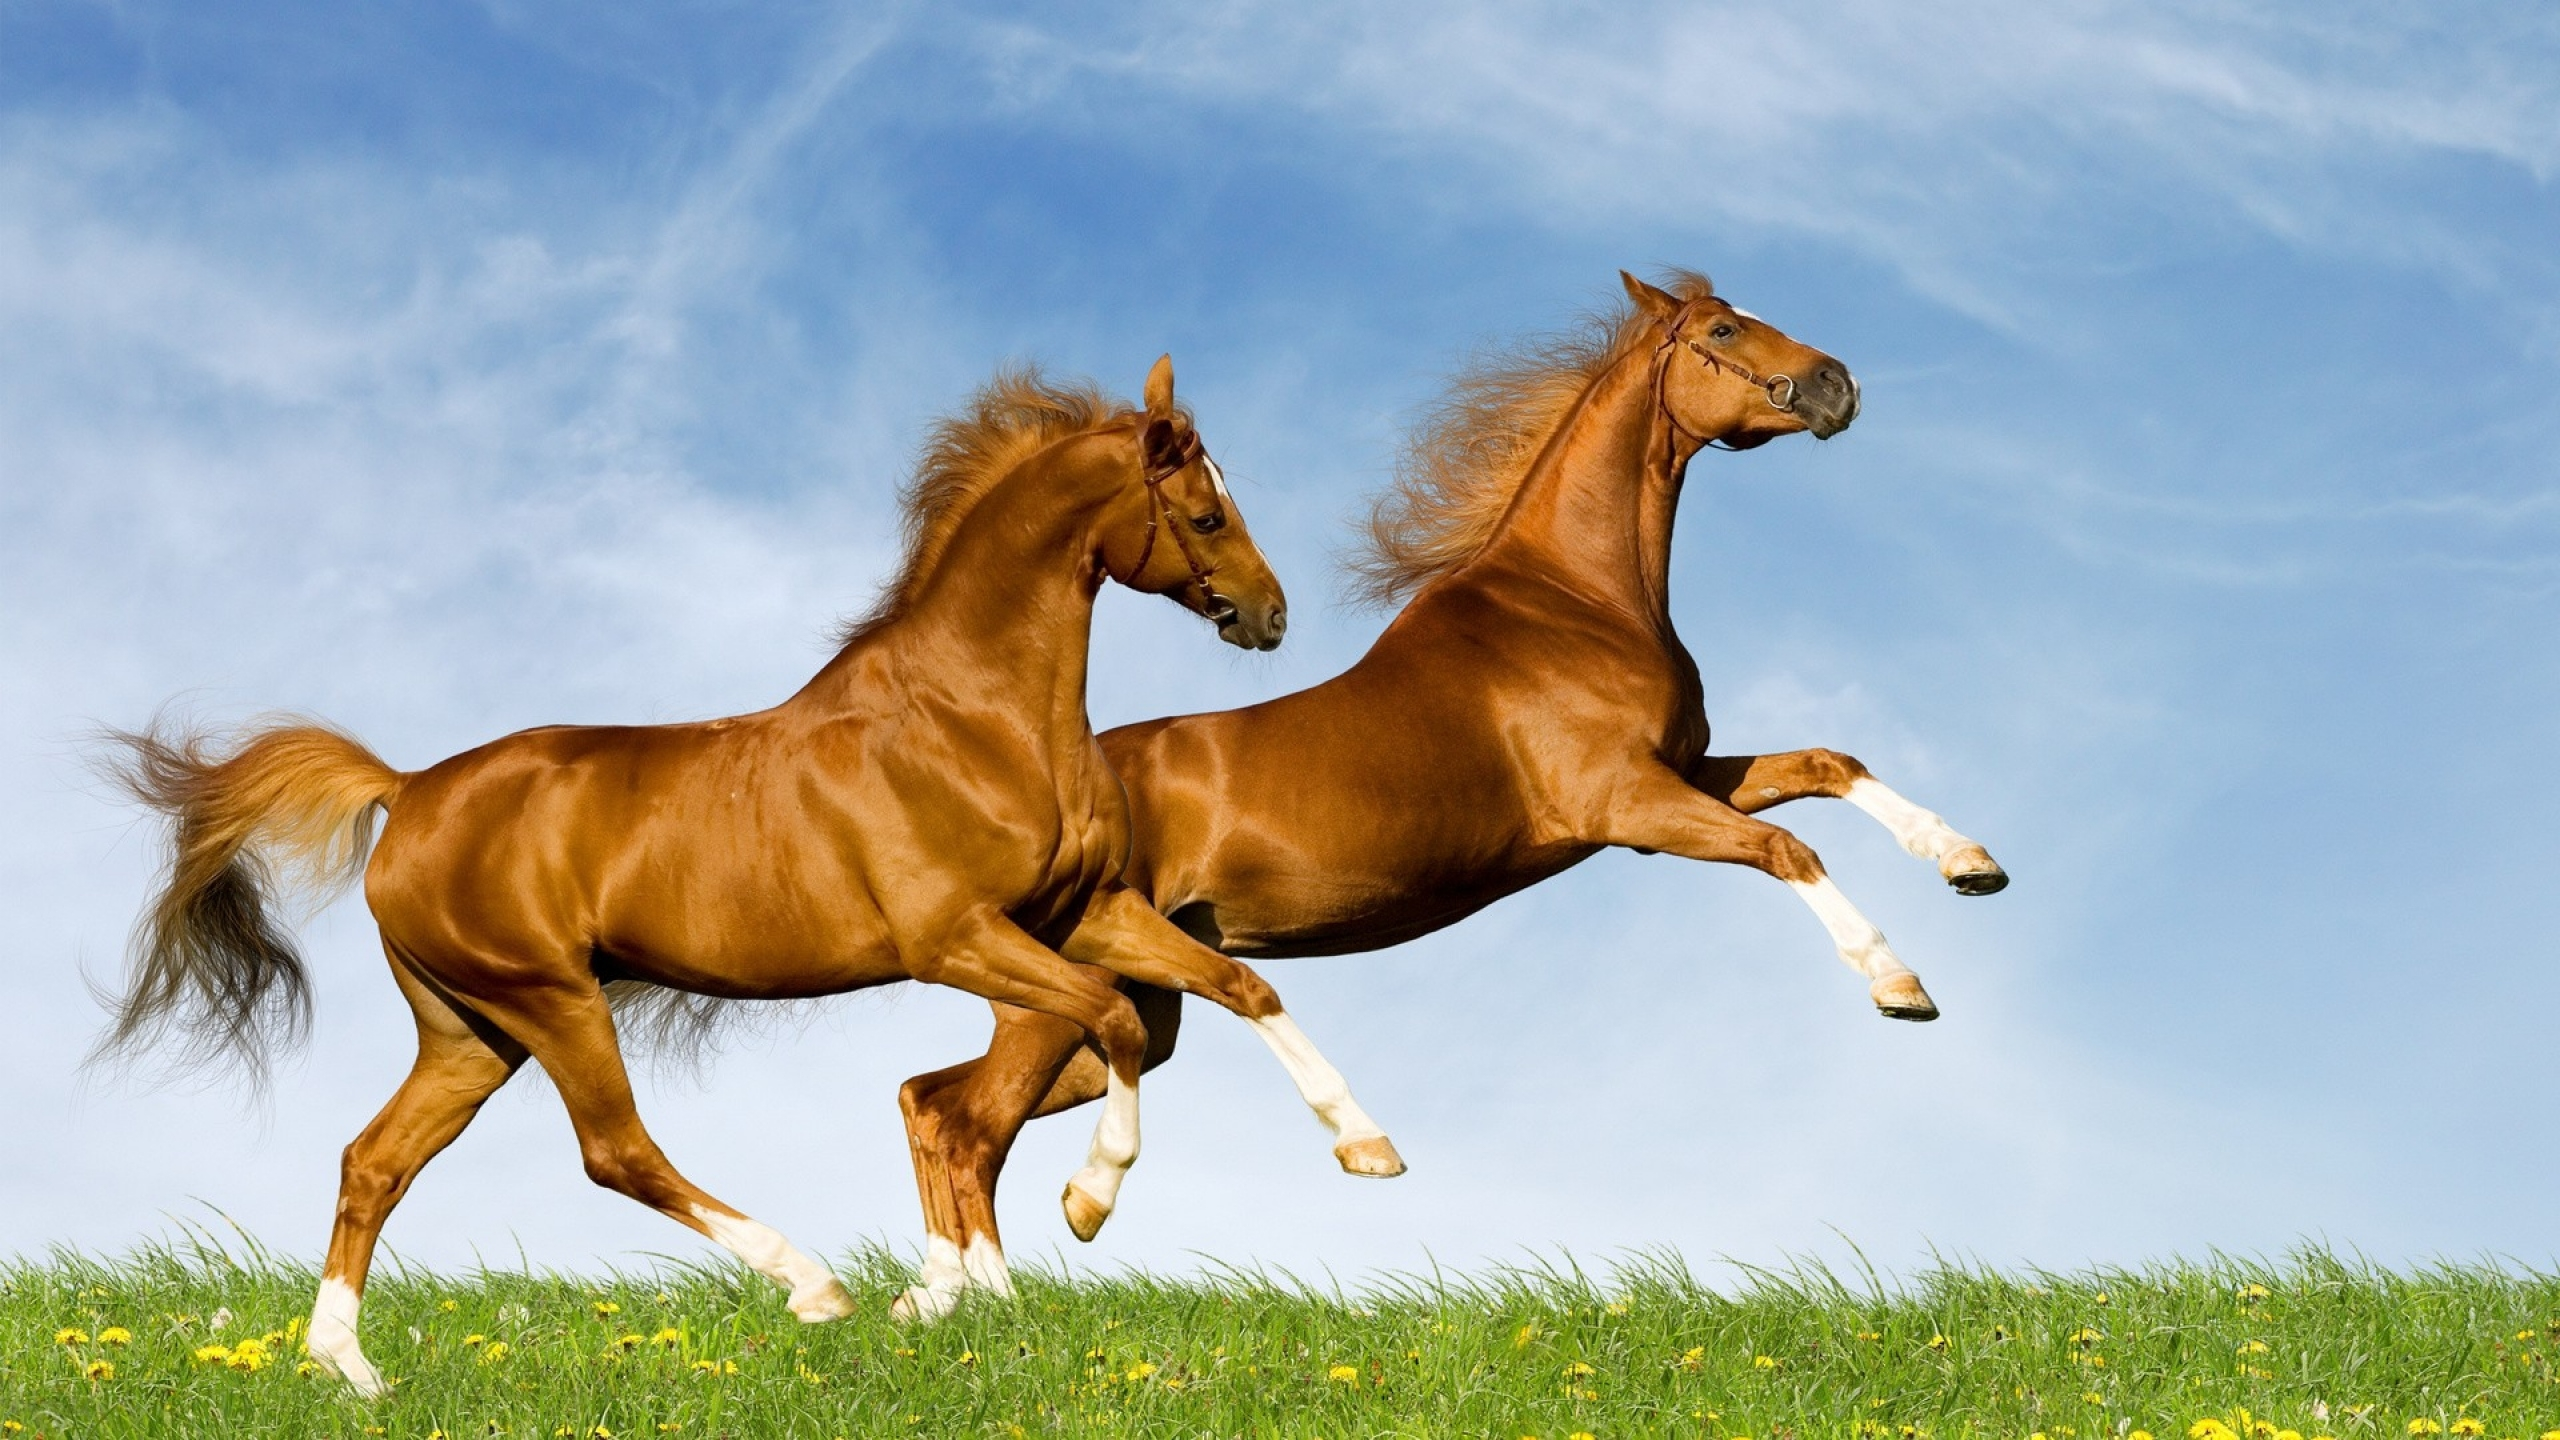horse: (79, 353, 1394, 1396), (888, 257, 2024, 1340)
